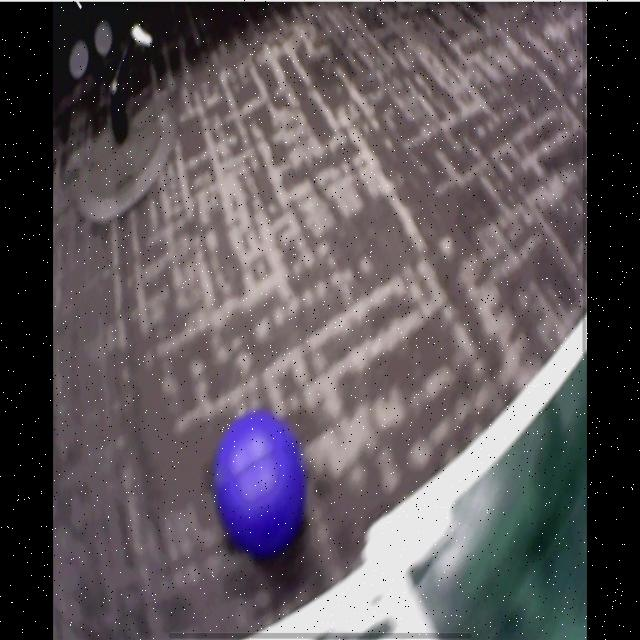ball: (217, 417, 308, 558)
